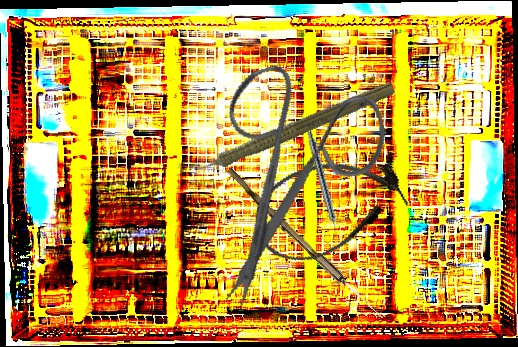Cannula: (242, 140, 416, 275)
Handpiece: (176, 73, 397, 187), (303, 130, 343, 240)
Iris Scissors: (167, 41, 422, 313)
Surgical Spoon: (222, 167, 388, 322)
